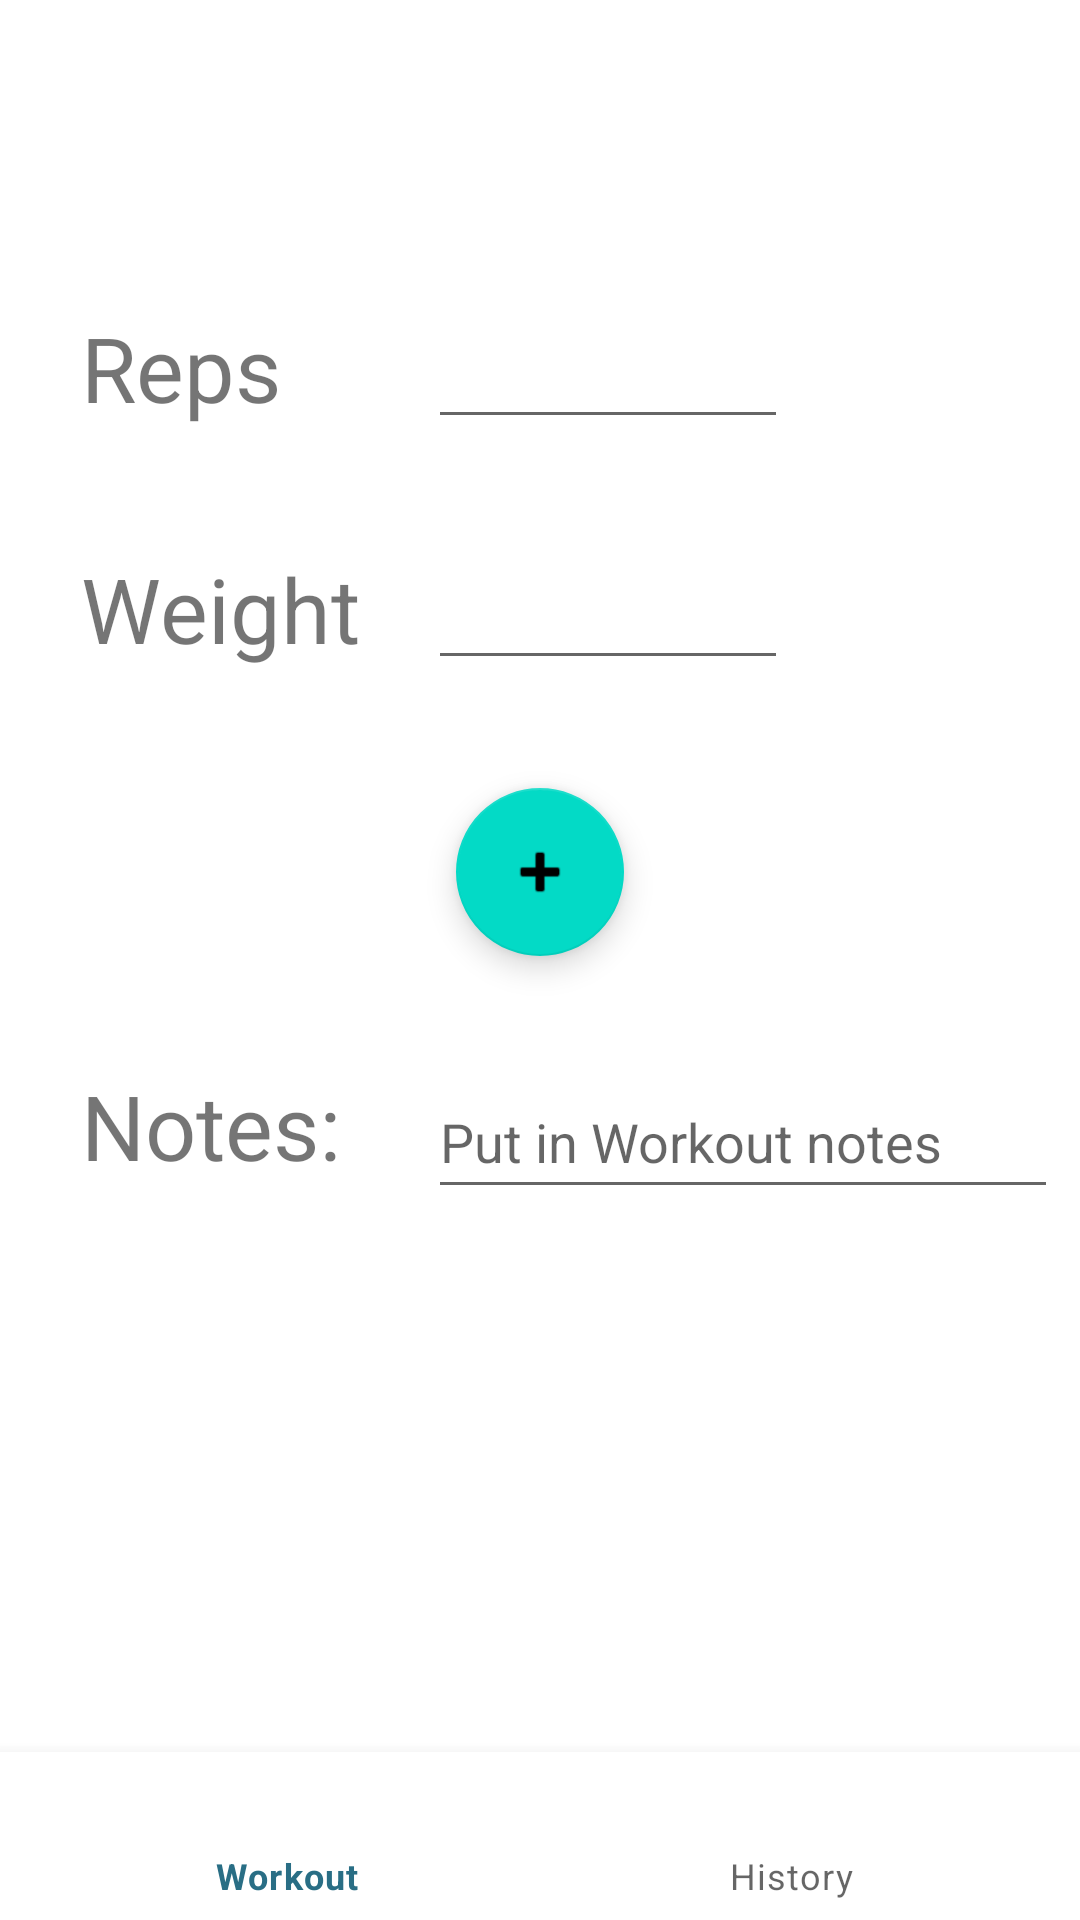

Screen size 1080x1920. Icon name, then its center in pixels as point (x, y):
add: point (540, 872)
